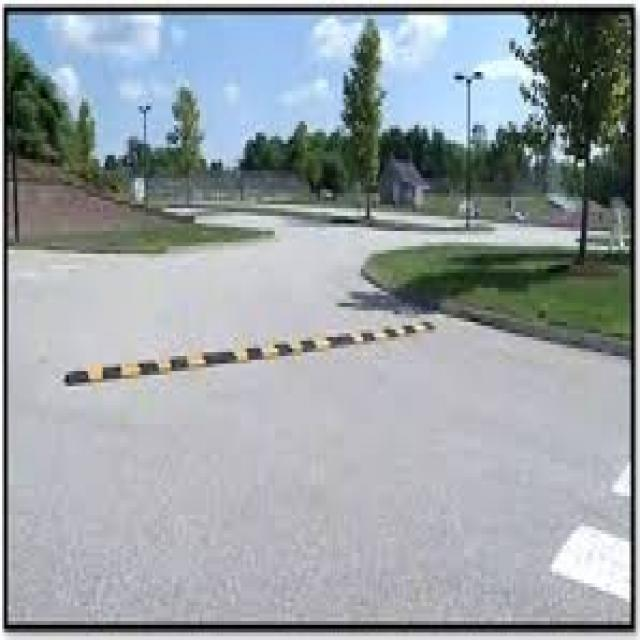Marked Bump: (67, 320, 465, 398)
